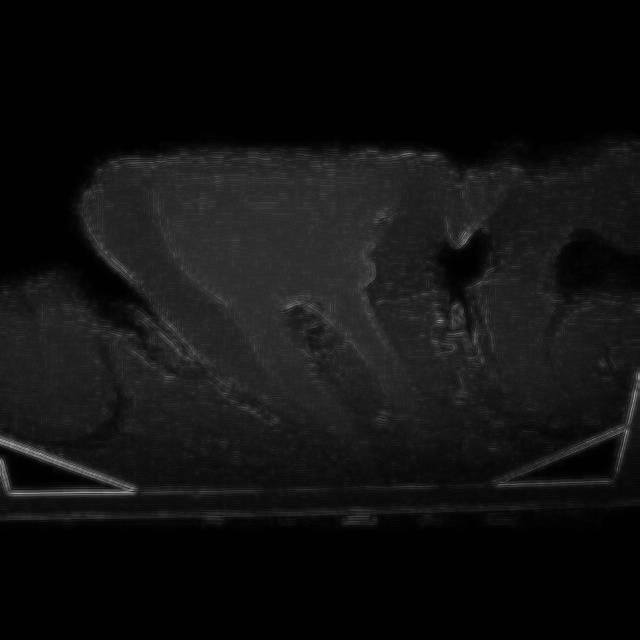Class 0- No endodontic treatment: (75, 152, 563, 482)
